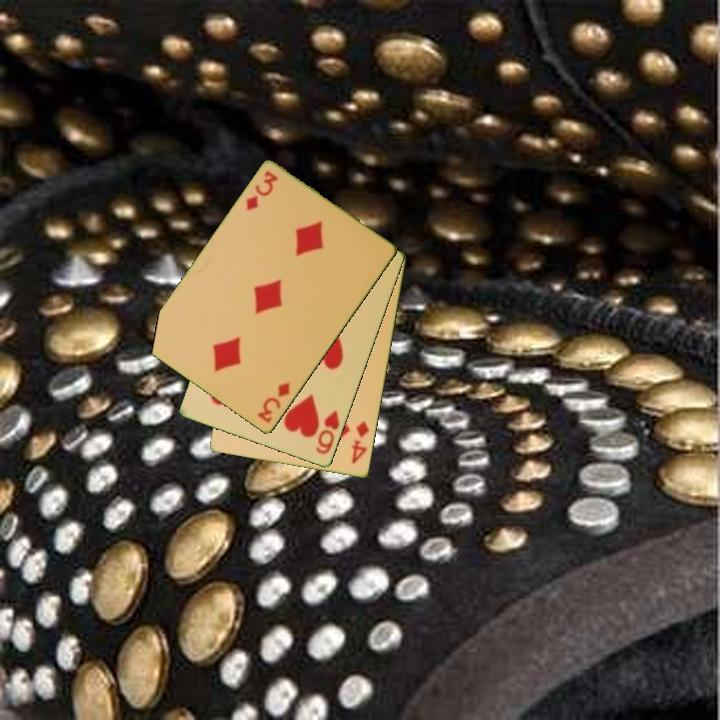3d: (254, 379, 293, 426), (242, 167, 281, 214)
4d: (348, 417, 372, 467)
6h: (312, 407, 343, 457)
